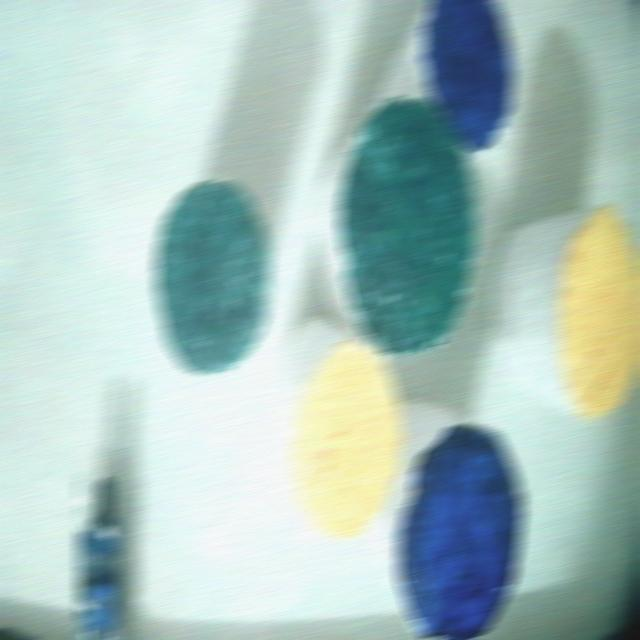blue: (396, 424, 523, 639), (421, 0, 514, 150)
green: (337, 97, 478, 355), (154, 182, 271, 372)
yellow: (288, 344, 403, 538), (557, 207, 639, 417)
